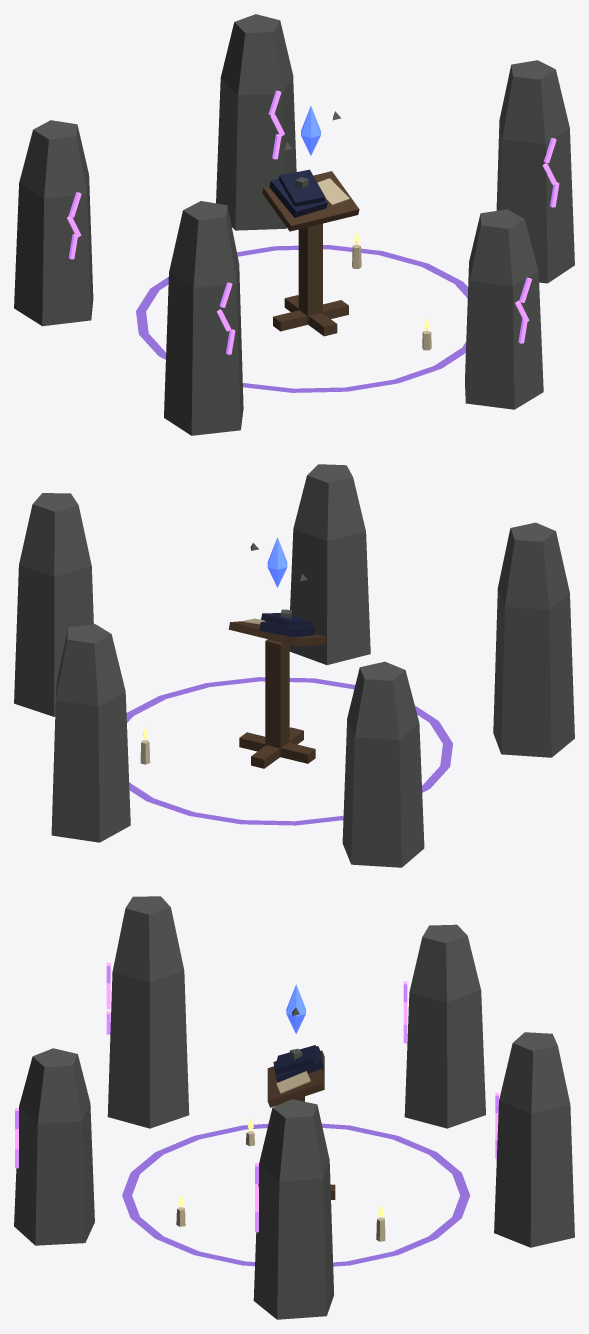
Rendered from mage_circle.glb.
3 views of the same model, one above another, from view 1: azimuth 30°, elevation 25°; view 2: azimuth 150°, elevation 25°; view 3: azimuth 270°, elevation 25° (orthographic).
Parts seen in each view (by area): view 1: Stone2, Stone3, Stone4, Stone1, Stone0, Lectern, ChalkCircle, Crystal; view 2: Stone2, Stone4, Stone3, Stone1, Stone0, Lectern, ChalkCircle, Crystal; view 3: Stone2, Stone0, Stone4, Stone3, Stone1, ChalkCircle, Lectern, Crystal.
Boxes of the visible parts, x1=… form: Stone2: x1=164, y1=201, x2=243, y2=435; Stone3: x1=14, y1=120, x2=93, y2=326; Stone4: x1=216, y1=14, x2=296, y2=230; Stone1: x1=465, y1=209, x2=543, y2=409; Stone0: x1=496, y1=60, x2=574, y2=283; Lectern: x1=262, y1=169, x2=359, y2=336; ChalkCircle: x1=136, y1=232, x2=467, y2=392; Crystal: x1=284, y1=106, x2=340, y2=155; Stone2: x1=493, y1=522, x2=574, y2=757; Stone4: x1=51, y1=624, x2=130, y2=842; Stone3: x1=342, y1=661, x2=424, y2=867; Stone1: x1=289, y1=464, x2=370, y2=664; Stone0: x1=14, y1=493, x2=93, y2=716; Lectern: x1=228, y1=609, x2=326, y2=768; ChalkCircle: x1=126, y1=677, x2=452, y2=825; Crystal: x1=250, y1=537, x2=307, y2=587; Stone2: x1=106, y1=896, x2=189, y2=1128; Stone0: x1=253, y1=1099, x2=333, y2=1319; Stone4: x1=494, y1=1032, x2=574, y2=1247; Stone3: x1=403, y1=924, x2=485, y2=1128; Stone1: x1=14, y1=1048, x2=94, y2=1245; ChalkCircle: x1=122, y1=1118, x2=470, y2=1266; Lectern: x1=267, y1=1045, x2=335, y2=1199; Crystal: x1=286, y1=984, x2=305, y2=1033.
Bounding box in the file's own units: 4.21 × 1.86 × 4.45.
